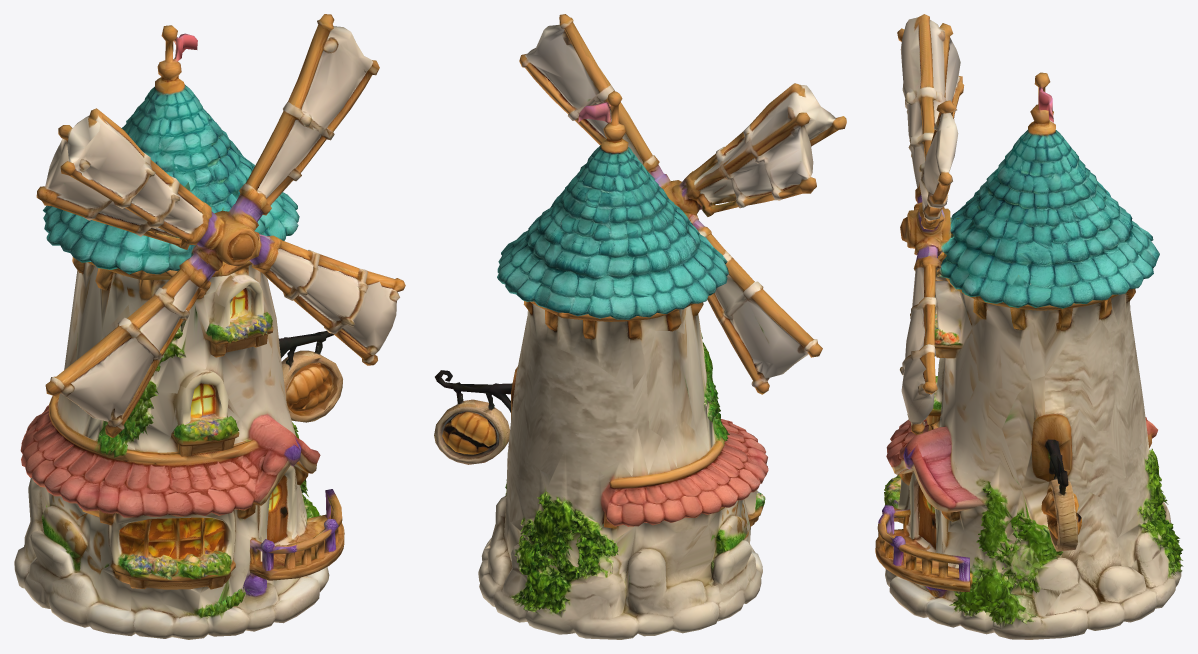
Rendered from windmill.glb.
3 views of the same model, side by side, from view 1: azimuth 30°, elevation 25°; view 2: azimuth 150°, elevation 25°; view 3: azimuth 270°, elevation 25° (orthographic). The views are drawn at different scales.
Visible parts, largest first — view 1: Mesh_0; view 2: Mesh_0; view 3: Mesh_0.
Part boxes in pixels (bbox=[...]): Mesh_0: bbox=[14, 14, 405, 639]; Mesh_0: bbox=[434, 14, 846, 639]; Mesh_0: bbox=[875, 14, 1183, 639].
Bounding box in the file's own units: 1.29 × 1.9 × 1.
Materials: 1 (1 with a texture image).
